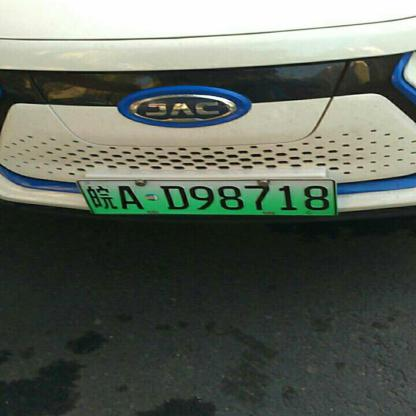lp: (78, 180, 336, 214)
